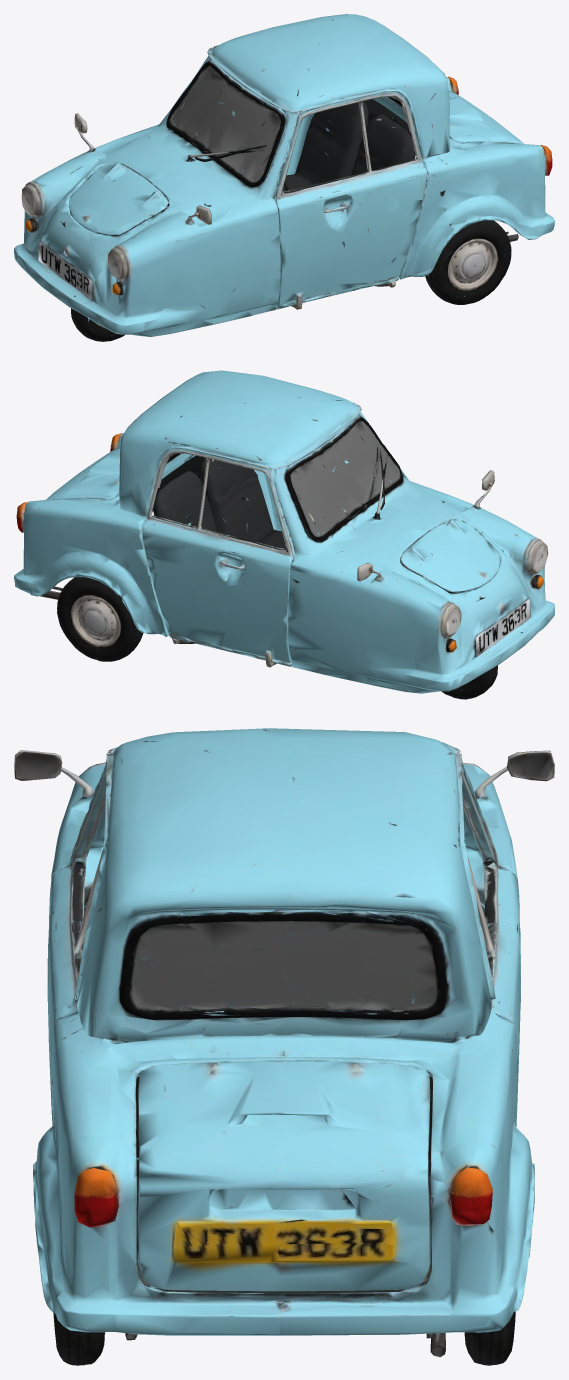
Rendered from mobility-car-SHRINK.glb.
3 renders of one model, top to bottom at view 1: azimuth 30°, elevation 25°; view 2: azimuth 150°, elevation 25°; view 3: azimuth 270°, elevation 25°, orthographic. The views are drawn at different scales.
Parts seen in each view (by area): view 1: object 1, Wheel_RL, Wheel_F; view 2: object 1, Wheel_RR, Wheel_F; view 3: object 1, Wheel_RL, Wheel_RR.
Part boxes in pixels (left/top/right/bottom): object 1: left=14, top=14, right=554, bottom=336; Wheel_RL: left=425, top=220, right=511, bottom=304; Wheel_F: left=71, top=308, right=124, bottom=341; object 1: left=14, top=370, right=554, bottom=693; Wheel_RR: left=57, top=577, right=143, bottom=661; Wheel_F: left=441, top=665, right=497, bottom=699; object 1: left=14, top=728, right=554, bottom=1357; Wheel_RL: left=53, top=1313, right=104, bottom=1365; Wheel_RR: left=464, top=1311, right=515, bottom=1365.
Bounding box in the file's own units: 1.9 × 0.9892 × 0.9948.
Materials: 1 (1 with a texture image).
